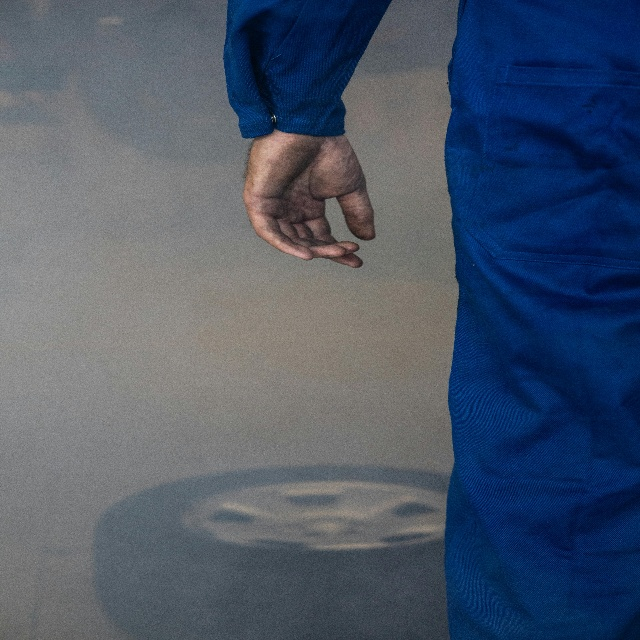Sin_guantes: (243, 131, 375, 267)
